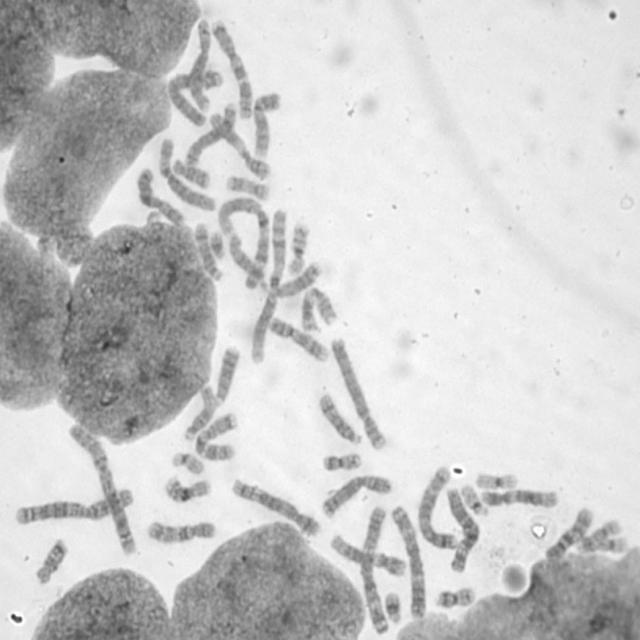A1: (247, 202, 290, 366), (213, 192, 272, 290)
A2: (64, 418, 140, 558), (10, 481, 137, 526)
A3: (388, 500, 429, 620), (358, 503, 392, 636)
B4: (328, 332, 390, 452), (164, 64, 223, 128)
B5: (228, 474, 324, 537), (414, 462, 460, 552)
C10: (542, 503, 596, 563), (142, 515, 218, 545)
C11: (207, 109, 275, 181), (298, 282, 339, 334)
C12: (326, 528, 408, 579), (478, 484, 560, 509)
C6: (155, 133, 218, 213), (442, 482, 483, 574)
C7: (207, 14, 254, 120), (192, 408, 241, 463)
C8: (181, 97, 239, 169), (186, 12, 214, 112)
C9: (265, 312, 331, 364), (248, 85, 283, 158)
D13: (267, 258, 321, 298), (210, 340, 242, 406)
D14: (316, 387, 365, 446), (191, 218, 225, 282)
D15: (224, 231, 269, 289), (180, 381, 218, 442)
E16: (160, 471, 213, 504), (284, 218, 312, 276)
E17: (574, 514, 624, 555), (222, 169, 272, 202)
E18: (31, 532, 70, 586), (169, 154, 212, 190)
F19: (472, 467, 520, 491), (594, 530, 631, 554)
F20: (432, 581, 478, 610), (319, 448, 364, 472)
G21: (382, 586, 404, 625), (207, 225, 228, 261)
G22: (458, 479, 492, 518), (168, 448, 206, 476)
X: (318, 469, 394, 520), (134, 164, 186, 227)
